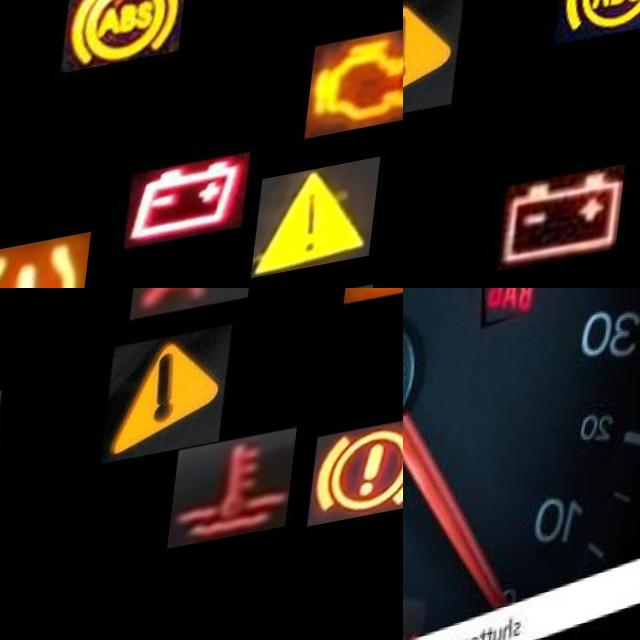Central Warning lamp: (113, 339, 242, 474), (261, 179, 388, 288), (403, 3, 469, 137)
Engine cooling system: (182, 445, 309, 561)
